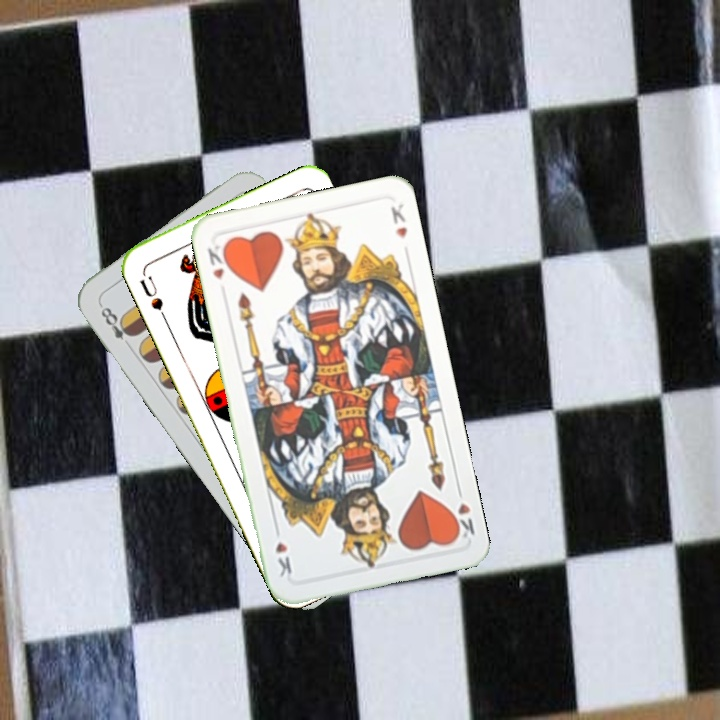E8: (95, 300, 138, 352)
HK: (446, 482, 478, 543), (203, 239, 233, 283)
SU: (136, 267, 170, 323)
